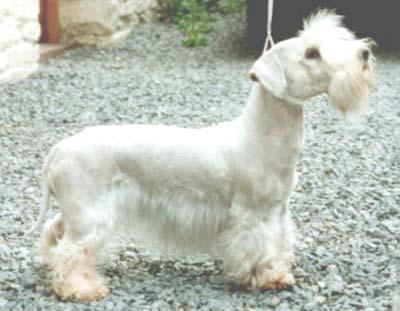wire-haired_fox_terrier: (20, 3, 379, 306)
